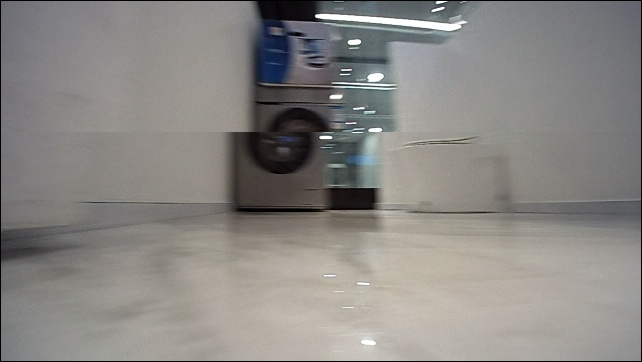toilet: (385, 126, 505, 214)
